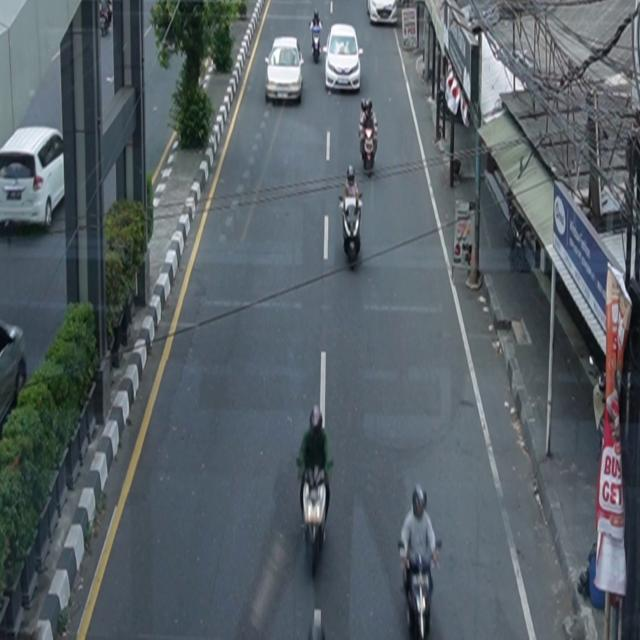car: (1, 126, 66, 232), (1, 320, 28, 439), (324, 24, 364, 94), (265, 37, 305, 104), (367, 1, 398, 26)
